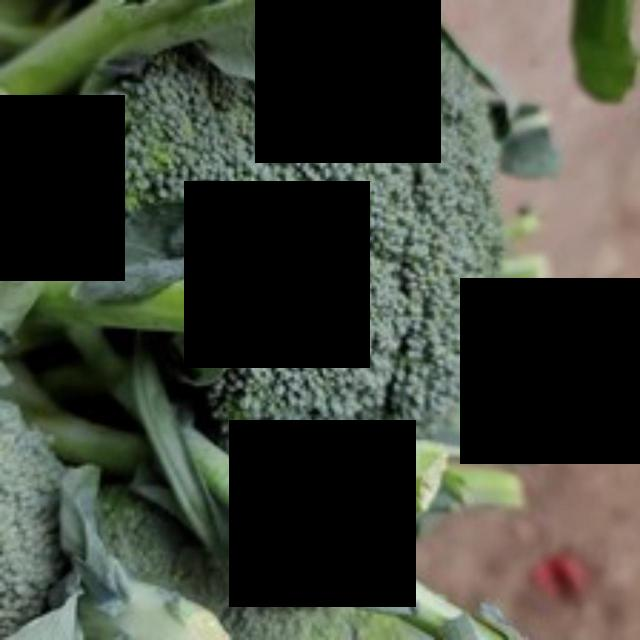broccoli: (87, 9, 500, 479)
